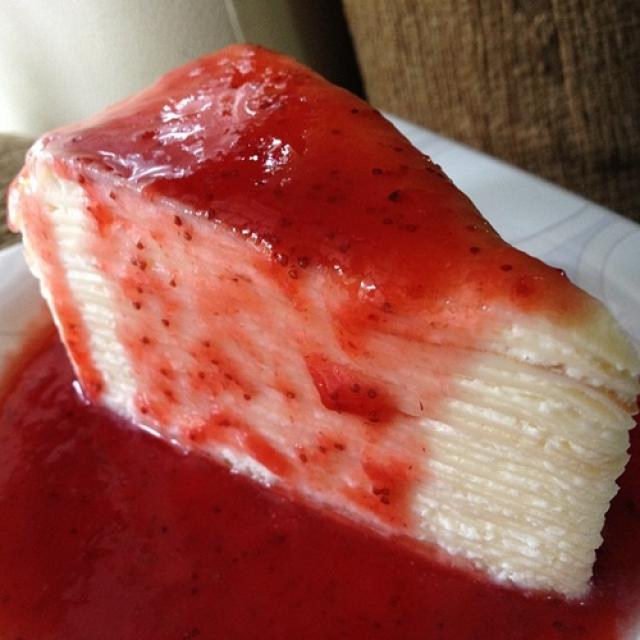蛋糕甜品: (5, 37, 631, 621)
